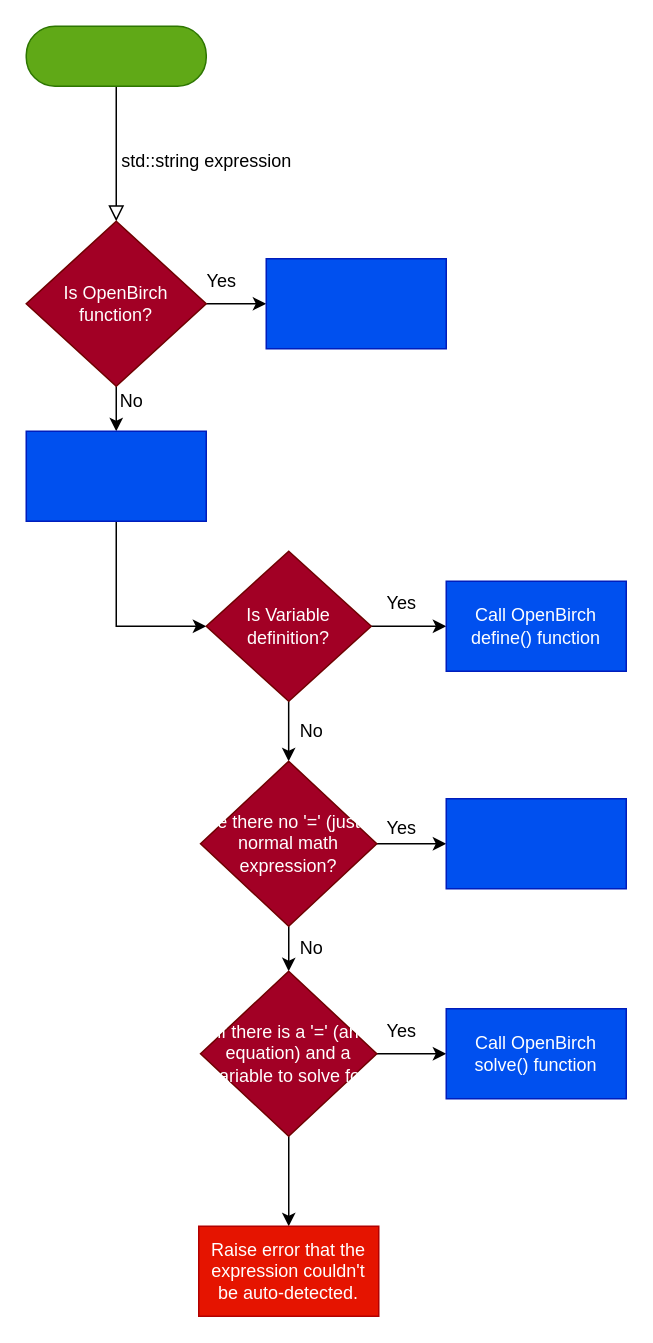
The diagram is 653 pixels wide and 1343 high, and some of its shapes have lost their labels. Here are the shapes that lost their labels. From the top down, the centre of each, then its label:
At (x=115, y=55): "Enter pressed".
At (x=355, y=303): "Evaluate OpenBirch fuction".
At (x=115, y=475): "Auto-detect expression type".
At (x=535, y=843): "Call OpenBirch calculate() function".
